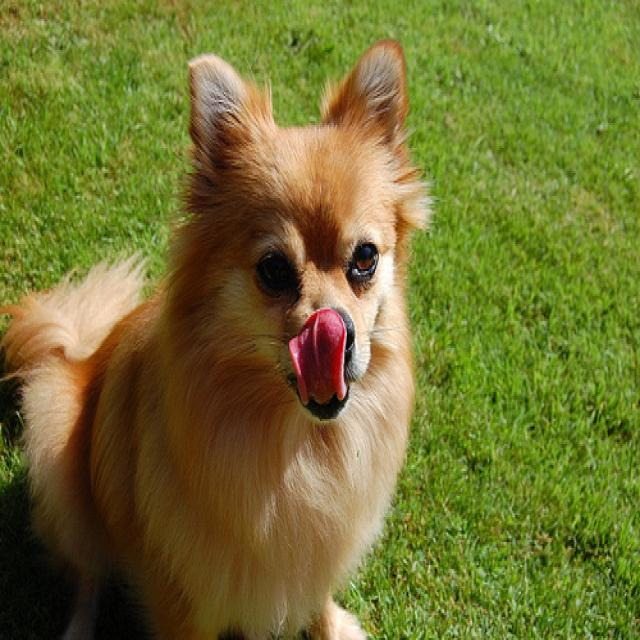dog-pomeranian: (1, 25, 443, 636)
